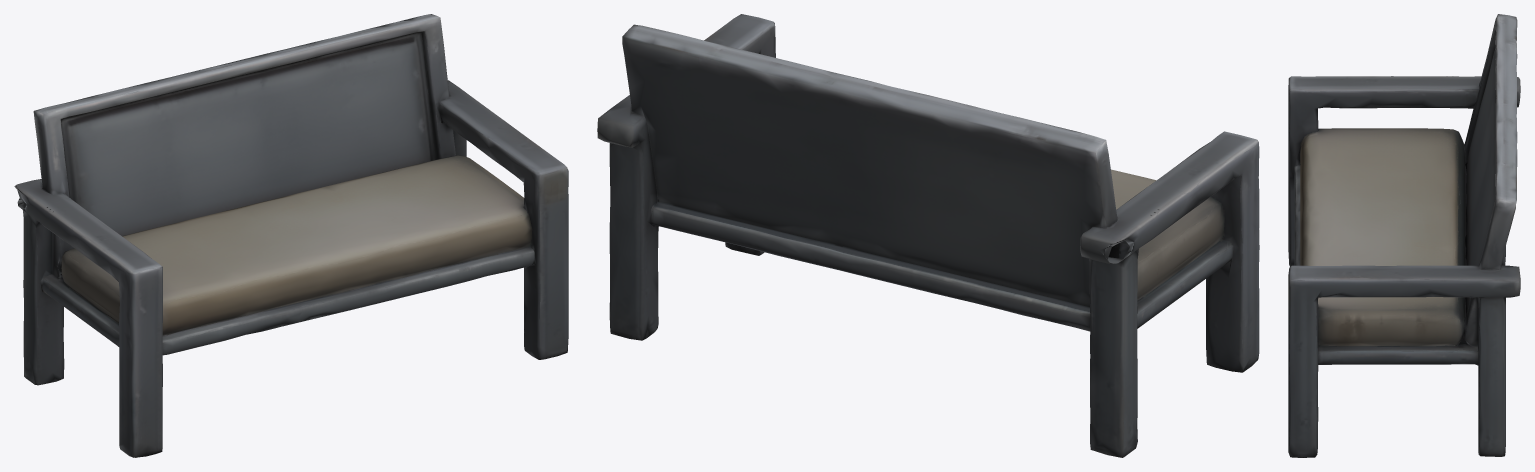
The model's file is foyer_SeatingBench.glb.
The picture shows the model from 3 angles, left to right: view 1: azimuth 30°, elevation 25°; view 2: azimuth 150°, elevation 25°; view 3: azimuth 270°, elevation 25°; orthographic projection. The views are drawn at different scales.
Visible parts, largest first — view 1: world; view 2: world; view 3: world.
Part boxes in pixels (<box>): world: <box>14,14,568,457</box>; world: <box>597,14,1259,457</box>; world: <box>1288,14,1520,457</box>.
Size of the model in its own units: 1 by 0.5752 by 0.4812.
Materials: 1 (1 with a texture image).
